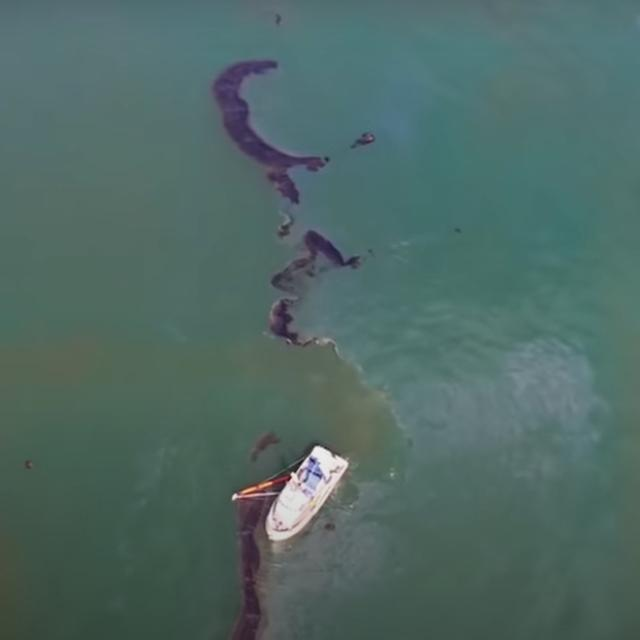truecolor: (211, 59, 329, 204), (229, 457, 304, 640), (268, 230, 362, 352), (249, 433, 279, 463), (276, 213, 294, 238)
